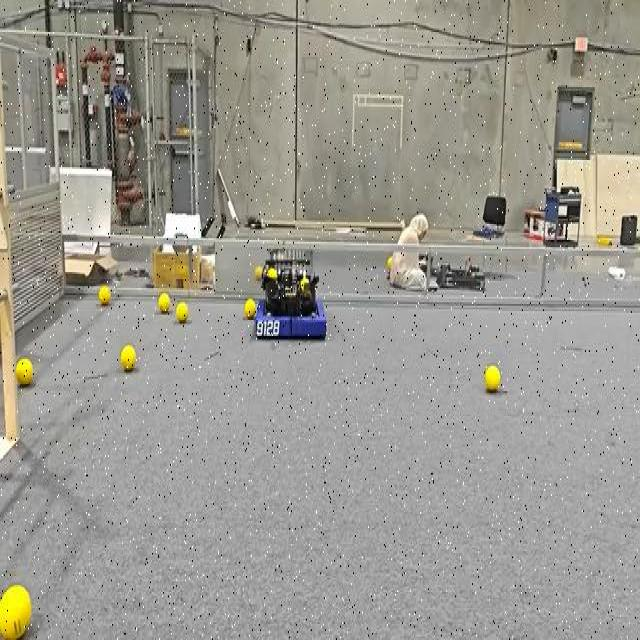Fuel: (0, 585, 31, 638), (16, 357, 32, 386), (484, 365, 500, 391), (120, 345, 135, 370), (176, 302, 188, 324), (98, 284, 110, 304), (158, 293, 170, 313), (175, 302, 187, 322), (98, 286, 110, 306), (244, 299, 256, 318), (267, 268, 277, 280), (255, 266, 262, 281), (267, 267, 277, 277), (254, 267, 262, 279), (386, 256, 391, 268)
